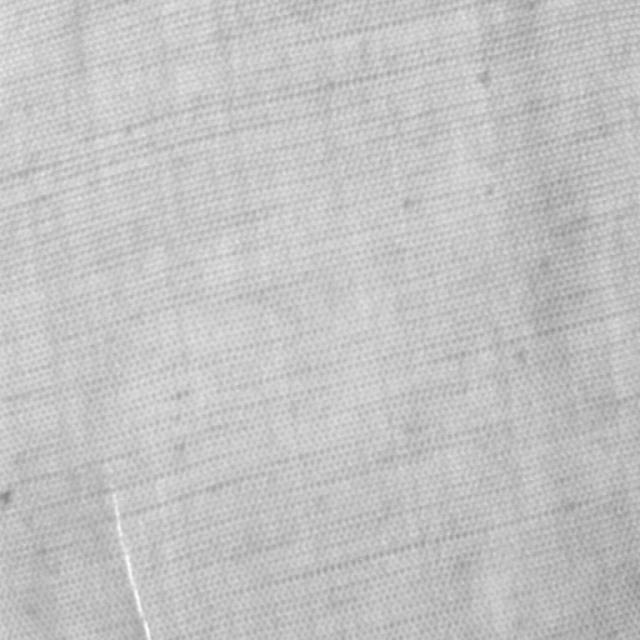hole: (104, 466, 158, 639)
